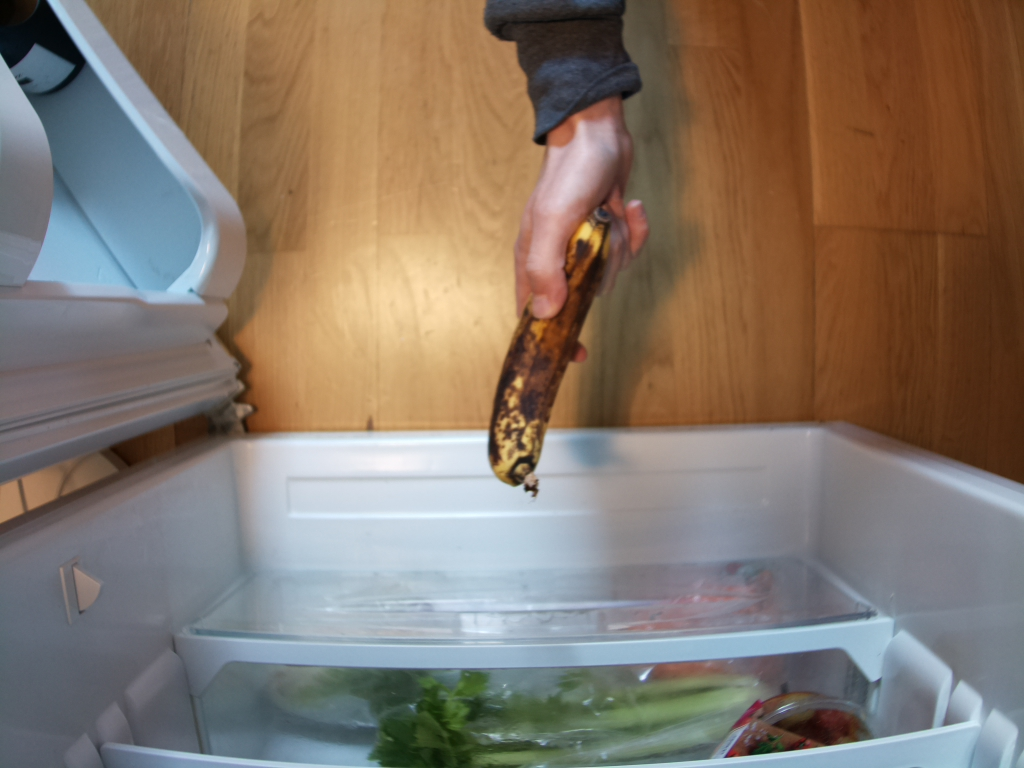banana-overripe: (489, 203, 624, 489)
